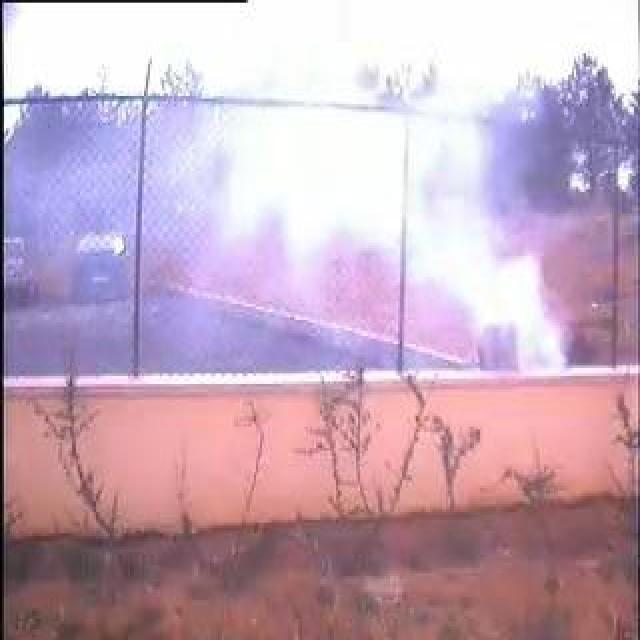Smoke: (198, 82, 574, 370)
